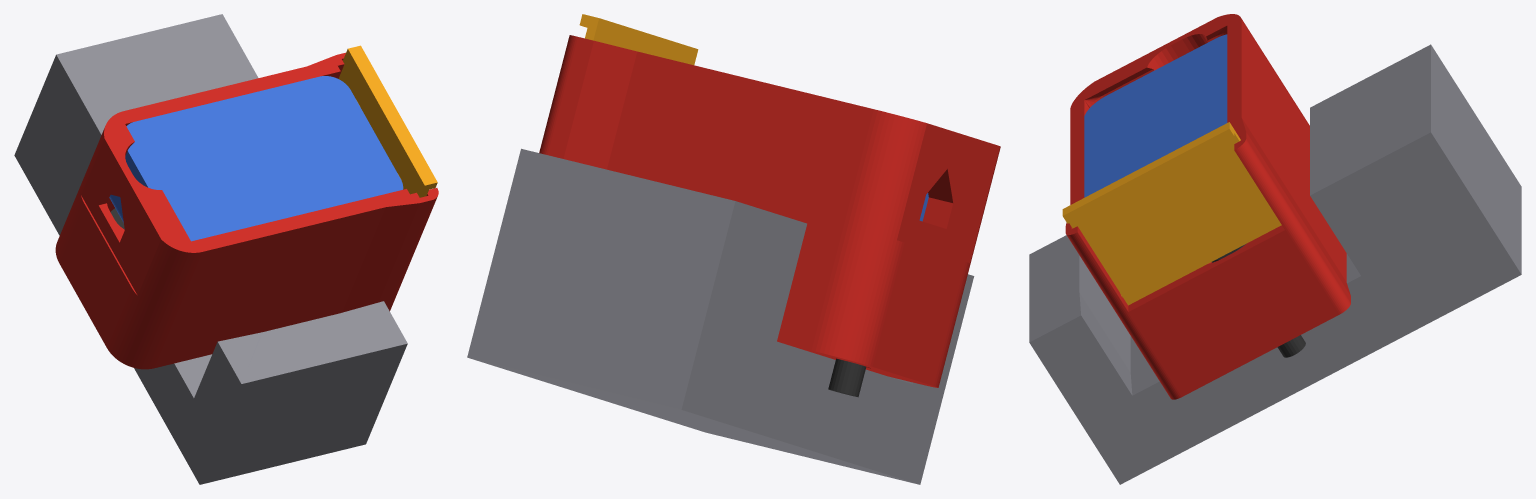
Rendered from dragy_assembly_v9.obj.
3 views of the same model, side by side, from view 1: azimuth 30°, elevation 25°; view 2: azimuth 150°, elevation 25°; view 3: azimuth 270°, elevation 25° (orthographic). The views are drawn at different scales.
Visible parts, largest first — view 1: front_swingarm_pad_schematic, dragy_holder, dragy, gate; view 2: front_swingarm_pad_schematic, dragy_holder, gate, screws; view 3: front_swingarm_pad_schematic, dragy_holder, gate, dragy.
Part boxes in pixels (left/top/right/bottom): front_swingarm_pad_schematic: left=14, top=14, right=407, bottom=484; dragy_holder: left=55, top=52, right=438, bottom=369; dragy: left=109, top=76, right=403, bottom=241; gate: left=338, top=45, right=437, bottom=197; front_swingarm_pad_schematic: left=467, top=148, right=974, bottom=484; dragy_holder: left=539, top=35, right=1000, bottom=387; gate: left=579, top=14, right=698, bottom=65; screws: left=828, top=358, right=866, bottom=397; front_swingarm_pad_schematic: left=1029, top=44, right=1521, bottom=484; dragy_holder: left=1065, top=14, right=1350, bottom=399; gate: left=1062, top=122, right=1281, bottom=305; dragy: left=1084, top=34, right=1227, bottom=197.
Bounding box in the file's own units: 51.2 × 63.68 × 74.76.
